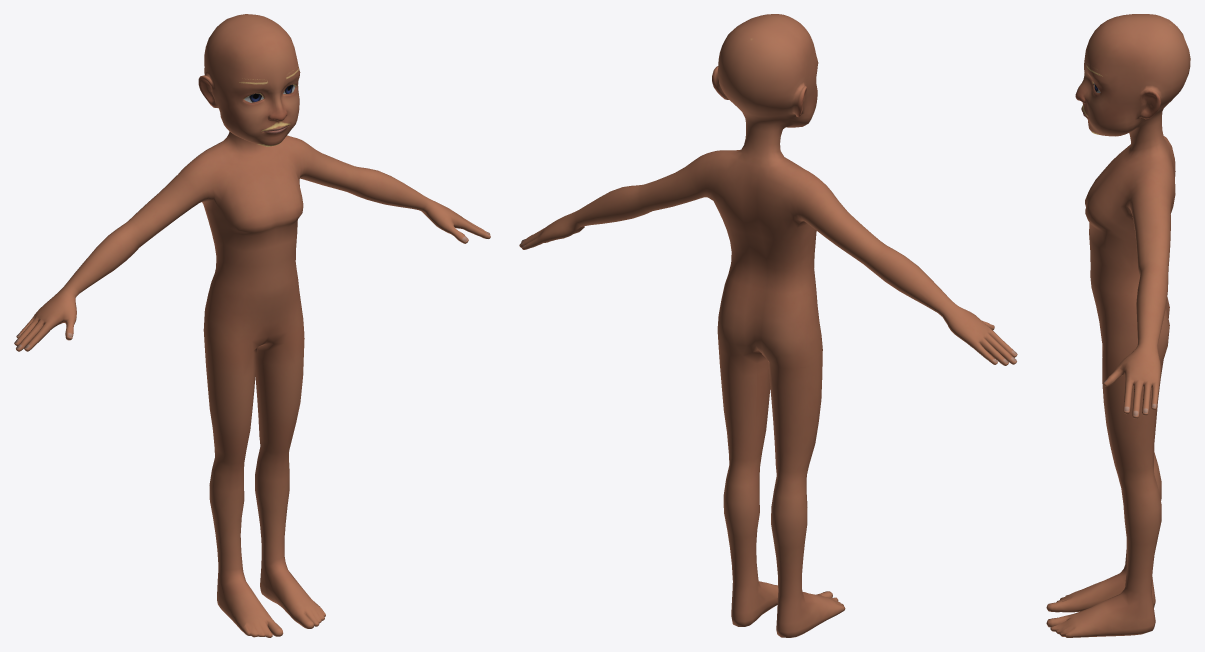
The model's file is frame_0061.glb.
3 renders of one model, left to right at view 1: azimuth 30°, elevation 25°; view 2: azimuth 150°, elevation 25°; view 3: azimuth 270°, elevation 25°, orthographic. The views are drawn at different scales.
Parts seen in each view (by area): view 1: frame_0061_head_geo; view 2: frame_0061_head_geo; view 3: frame_0061_head_geo.
Boxes of the visible parts, x1,y1,x2,y2 form: frame_0061_head_geo: (14, 14, 490, 637); frame_0061_head_geo: (519, 14, 1017, 637); frame_0061_head_geo: (1046, 14, 1190, 637).
Size of the model in its own units: 1.28 by 1.5 by 0.3253.
3 materials, 3 textured.
